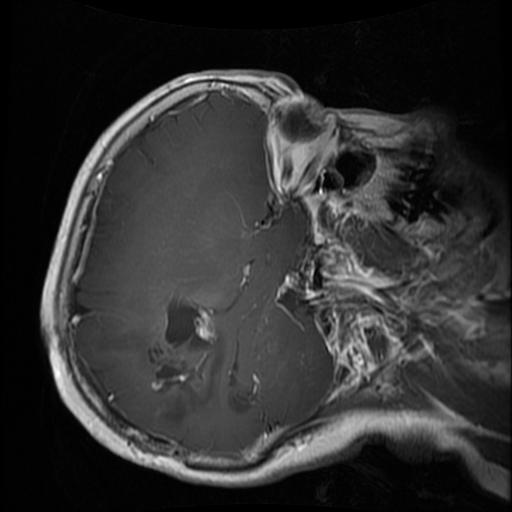glioma: (145, 294, 253, 426)
